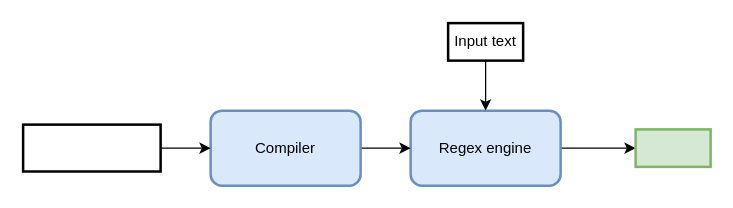
Some shapes in this 733 by 208 pixel diagram are drawn without their labels. Each missing label, with the centre of its shape:
"created regular expression" belongs at [91,147].
"Matched substrings" belongs at [672,148].
